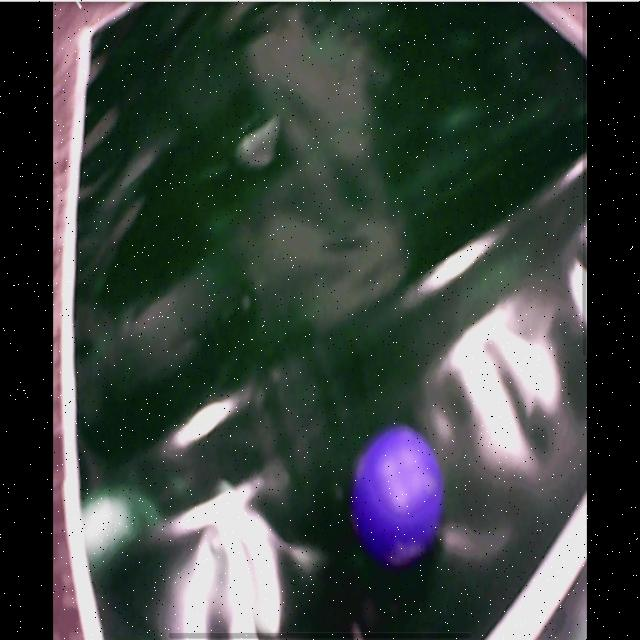ball: (355, 426, 445, 564)
